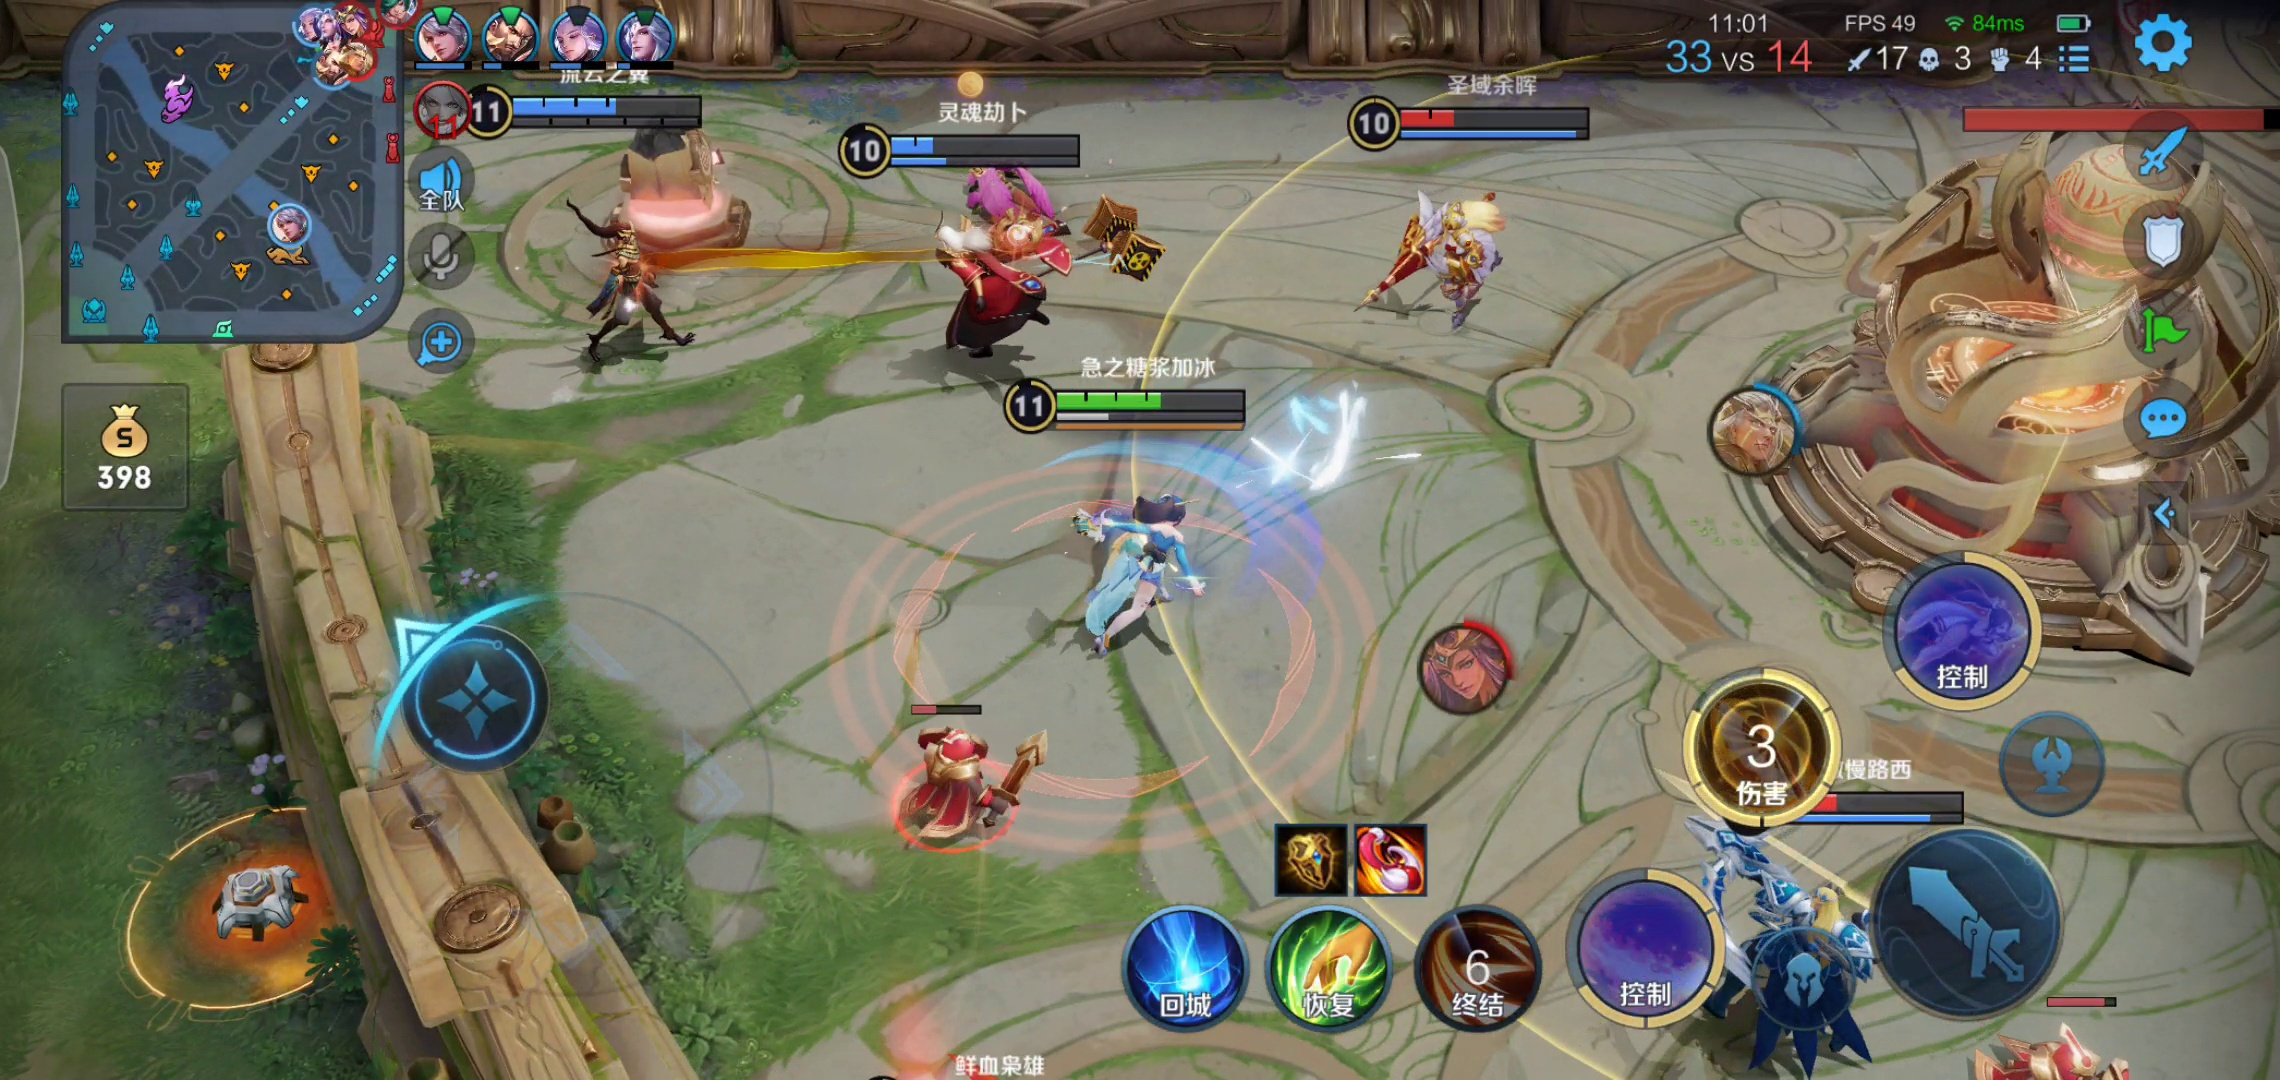crystal: (1780, 115, 2280, 658)
hero: (1679, 817, 1893, 1080), (1361, 177, 1521, 339), (1067, 480, 1213, 653), (906, 209, 1075, 343), (550, 205, 691, 355)
soldier: (894, 714, 1057, 859), (1973, 1015, 2126, 1079)
tower: (606, 124, 776, 267)
